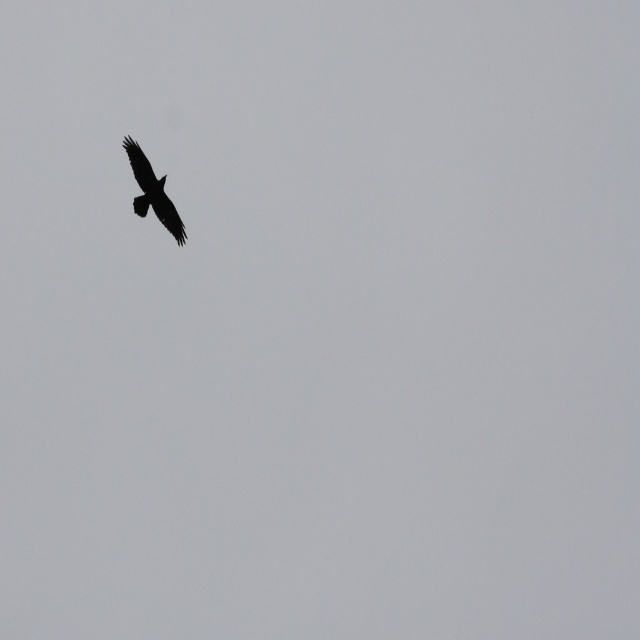Eagle: (118, 133, 188, 255)
